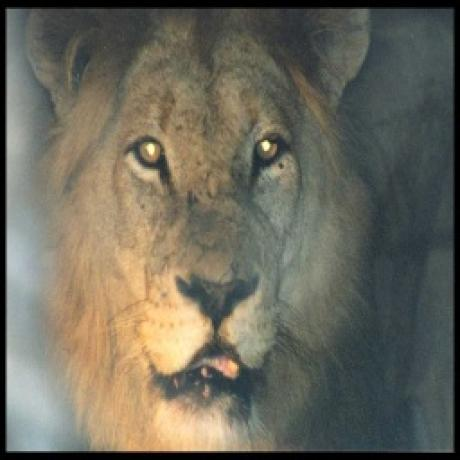Lion: (28, 3, 454, 452)
